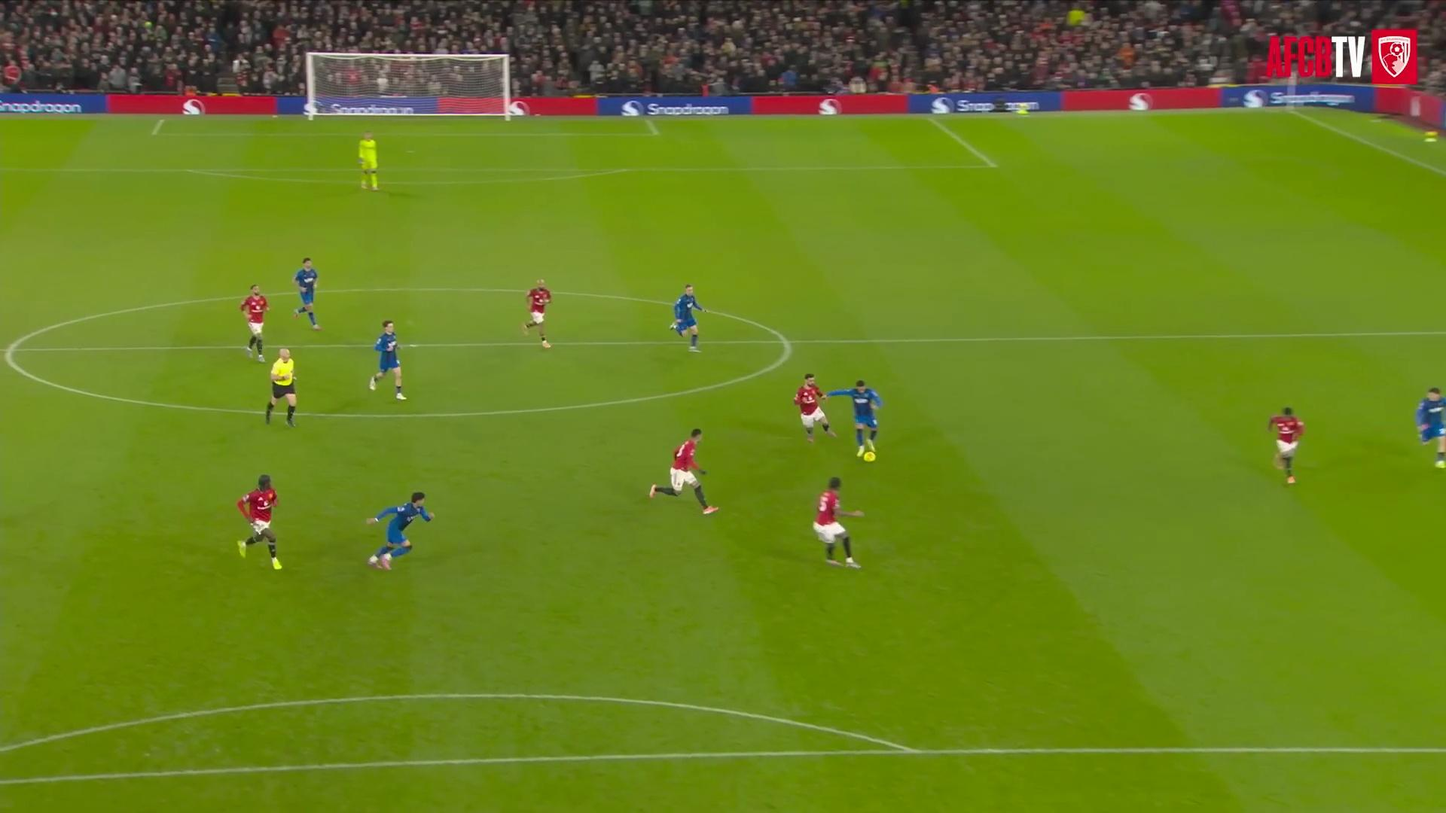football: (855, 444, 884, 466)
player: (649, 428, 718, 514), (367, 492, 435, 569), (813, 477, 863, 568), (826, 380, 883, 456), (236, 474, 281, 569), (369, 320, 405, 400), (794, 373, 835, 441), (1268, 406, 1304, 483), (1416, 387, 1445, 467), (670, 285, 704, 352), (240, 285, 268, 361), (523, 279, 551, 348), (293, 257, 319, 330), (358, 131, 377, 190)
referee: (265, 348, 296, 427)
